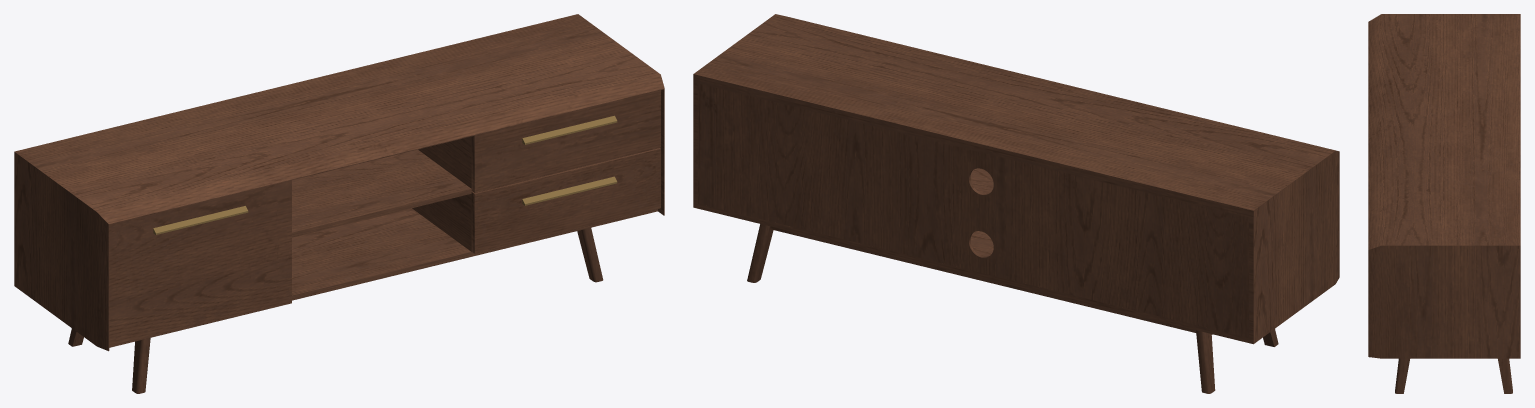
File: vick_tvconsole.gltf
3 renders of one model, left to right at view 1: azimuth 30°, elevation 25°; view 2: azimuth 150°, elevation 25°; view 3: azimuth 270°, elevation 25°, orthographic. The views are drawn at different scales.
Visible parts, largest first — view 1: Mesh; view 2: Mesh; view 3: Mesh.
Boxes of the visible parts, x1=… form: Mesh: x1=14, y1=14, x2=664, y2=393; Mesh: x1=693, y1=14, x2=1339, y2=393; Mesh: x1=1368, y1=14, x2=1520, y2=393.
Bounding box in the file's own units: 1.8 × 0.61 × 0.5.
1 material, 1 textured.
